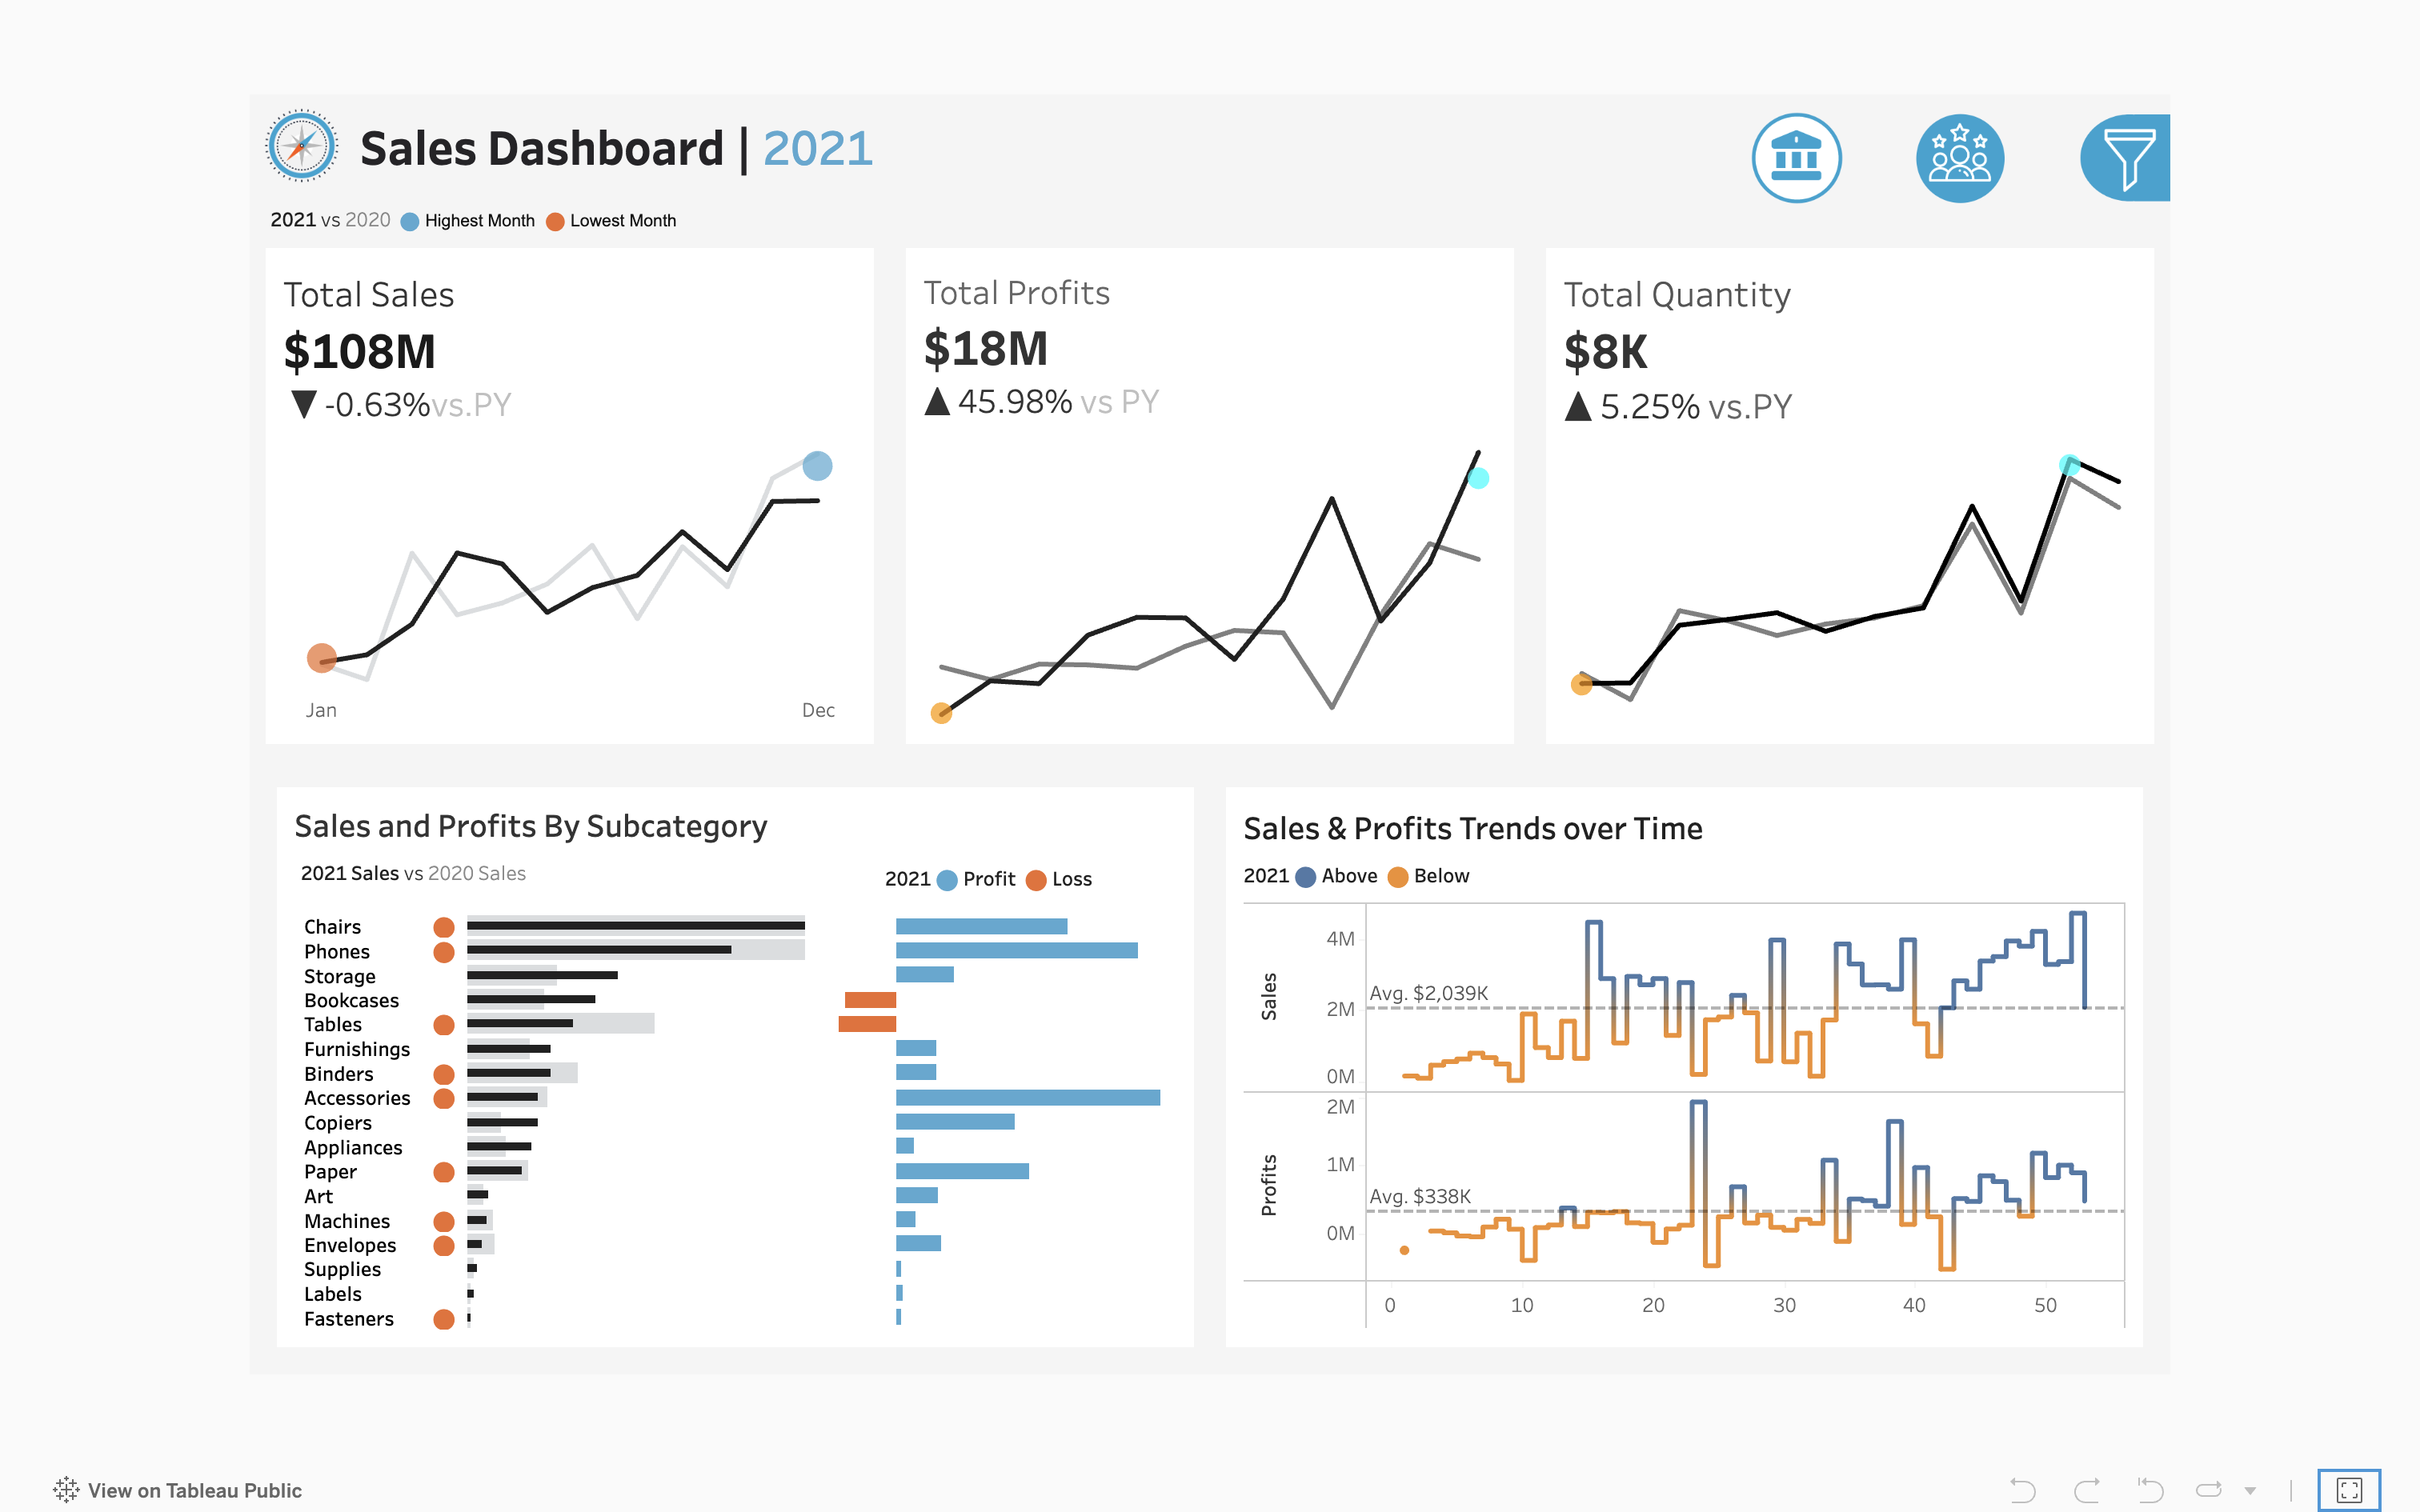

The page's visual inventory and layout, read from the dashboard file:
{"tool":"tableau","page":{"name":"Sales Dashboard ","canvas":[1200,800],"ordinal":1},"visuals":[{"type":"image","param":"Image/Icon - Logo.png","box":[0,0,65,64]},{"type":"text","box":[65,0,843,64]},{"type":"dashboard-object","box":[916,7,102,66]},{"type":"dashboard-object","box":[1018,7,102,66]},{"type":"blank","box":[941,10,248,64]},{"type":"worksheet","title":"Legends KPI ","mark":"Automatic","box":[0,64,1200,32]},{"type":"text","box":[941,74,248,81]},{"type":"worksheet","title":"KPI Sales","mark":"Automatic","rows":["Calculation_418201450018340868"],"cols":["Order Date"],"box":[0,96,400,320]},{"type":"worksheet","title":"Profits","mark":"Automatic","rows":["Calculation_418201450059653138"],"cols":["Order Date"],"box":[400,96,400,320]},{"type":"worksheet","title":"Quantity","mark":"Automatic","rows":["Calculation_418201450068496408"],"cols":["Order Date"],"box":[800,96,400,320]},{"type":"parameter","param":"[Parameters].[Parameter 1]","box":[941,155,248,52]},{"type":"text","box":[941,207,248,29]},{"type":"filter","title":"KPI Sales","param":"[federated.1h8unj11q8ltaz1btw6g910z2xr9].[none:Category:nk]","box":[941,236,248,52]},{"type":"filter","title":"KPI Sales","param":"[federated.1h8unj11q8ltaz1btw6g910z2xr9].[none:Sub-Category:nk]","box":[941,288,248,52]},{"type":"blank","box":[941,340,248,38]},{"type":"text","box":[941,378,248,29]},{"type":"filter","title":"KPI Sales","param":"[federated.1h8unj11q8ltaz1btw6g910z2xr9].[none:Region:nk]","box":[941,407,248,52]},{"type":"text","box":[24,440,559,32]},{"type":"text","box":[617,440,559,34]},{"type":"filter","title":"KPI Sales","param":"[federated.1h8unj11q8ltaz1btw6g910z2xr9].[none:State:nk]","box":[941,459,248,52]},{"type":"worksheet","title":"Legends Subcategory","mark":"Automatic","box":[24,472,369,36]},{"type":"text","box":[393,472,190,36]},{"type":"text","box":[617,474,559,25]},{"type":"worksheet","title":"Weekly Trends","mark":"Automatic","rows":["Calculation_418201449993867264","Calculation_418201450049429513"],"cols":["Order Date"],"box":[617,499,559,277]},{"type":"worksheet","title":"subcategory","mark":"Bar","rows":["Sub-Category","Calculation_418201450085302297"],"cols":["CY Sales (copy)_418201449994661889","Calculation_418201449993867264","Calculation_418201450049429513"],"box":[24,508,559,268]},{"type":"filter","title":"KPI Sales","param":"[federated.1h8unj11q8ltaz1btw6g910z2xr9].[none:City:nk]","box":[941,511,248,52]}]}

Visuals, with their boxes on the page's 1200x800 design canvas (x1, y1, x2, y2). These are canvas units, not pixel positions in the 2420x1512 screenshot, which may show the page scaled, cropped or inside an application window:
image: {"left": 0, "top": 0, "right": 65, "bottom": 64}
text: {"left": 65, "top": 0, "right": 908, "bottom": 64}
dashboard-object: {"left": 916, "top": 7, "right": 1018, "bottom": 73}
dashboard-object: {"left": 1018, "top": 7, "right": 1120, "bottom": 73}
blank: {"left": 941, "top": 10, "right": 1189, "bottom": 74}
"Legends KPI " worksheet: {"left": 0, "top": 64, "right": 1200, "bottom": 96}
text: {"left": 941, "top": 74, "right": 1189, "bottom": 155}
"KPI Sales" worksheet: {"left": 0, "top": 96, "right": 400, "bottom": 416}
"Profits" worksheet: {"left": 400, "top": 96, "right": 800, "bottom": 416}
"Quantity" worksheet: {"left": 800, "top": 96, "right": 1200, "bottom": 416}
parameter: {"left": 941, "top": 155, "right": 1189, "bottom": 207}
text: {"left": 941, "top": 207, "right": 1189, "bottom": 236}
"KPI Sales" filter: {"left": 941, "top": 236, "right": 1189, "bottom": 288}
"KPI Sales" filter: {"left": 941, "top": 288, "right": 1189, "bottom": 340}
blank: {"left": 941, "top": 340, "right": 1189, "bottom": 378}
text: {"left": 941, "top": 378, "right": 1189, "bottom": 407}
"KPI Sales" filter: {"left": 941, "top": 407, "right": 1189, "bottom": 459}
text: {"left": 24, "top": 440, "right": 583, "bottom": 472}
text: {"left": 617, "top": 440, "right": 1176, "bottom": 474}
"KPI Sales" filter: {"left": 941, "top": 459, "right": 1189, "bottom": 511}
"Legends Subcategory" worksheet: {"left": 24, "top": 472, "right": 393, "bottom": 508}
text: {"left": 393, "top": 472, "right": 583, "bottom": 508}
text: {"left": 617, "top": 474, "right": 1176, "bottom": 499}
"Weekly Trends" worksheet: {"left": 617, "top": 499, "right": 1176, "bottom": 776}
"subcategory" worksheet (Bar marks): {"left": 24, "top": 508, "right": 583, "bottom": 776}
"KPI Sales" filter: {"left": 941, "top": 511, "right": 1189, "bottom": 563}
